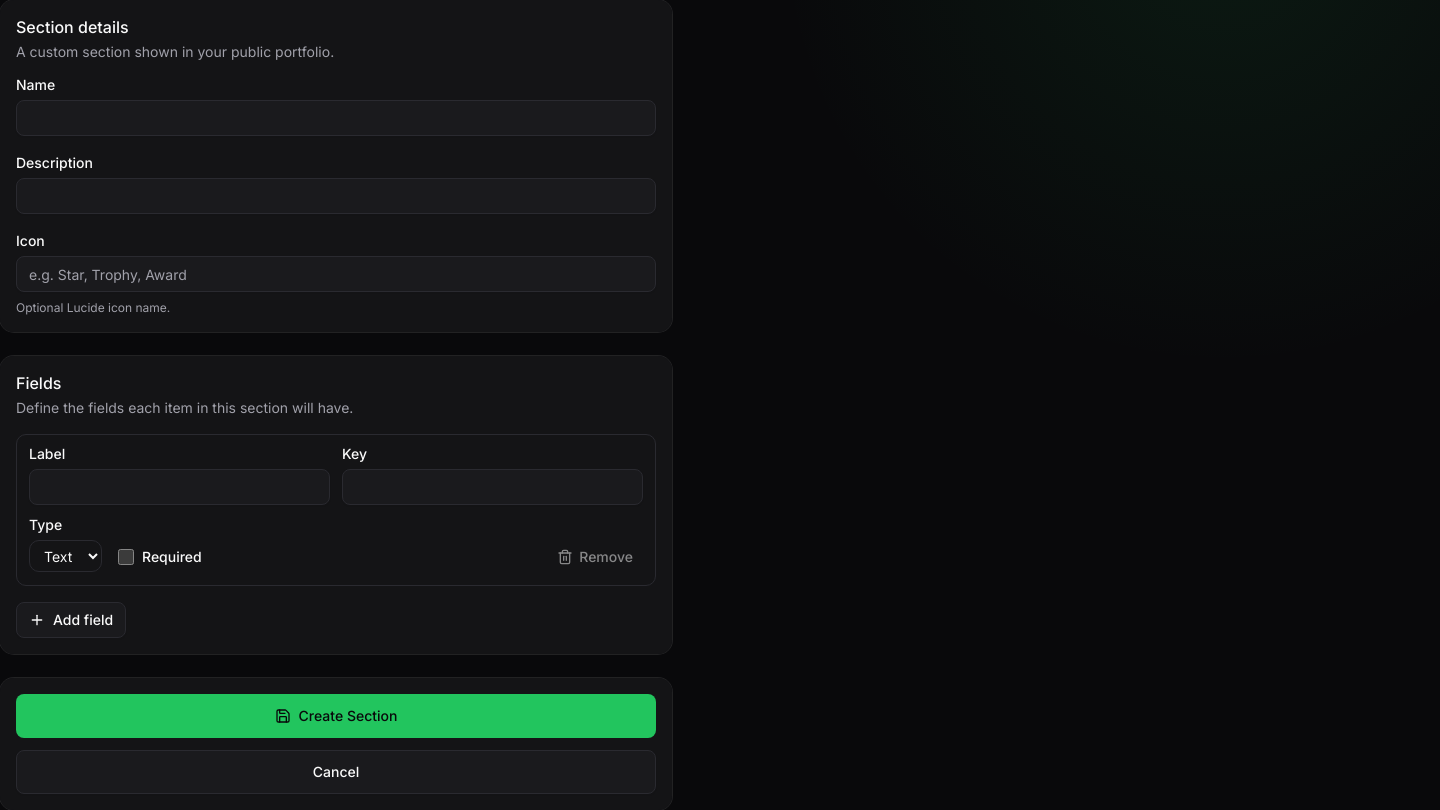
SectionForm › auto-populates the key from the label
Type "My Award" into the field named "Field label" at (180, 487), box [29,469,330,505]
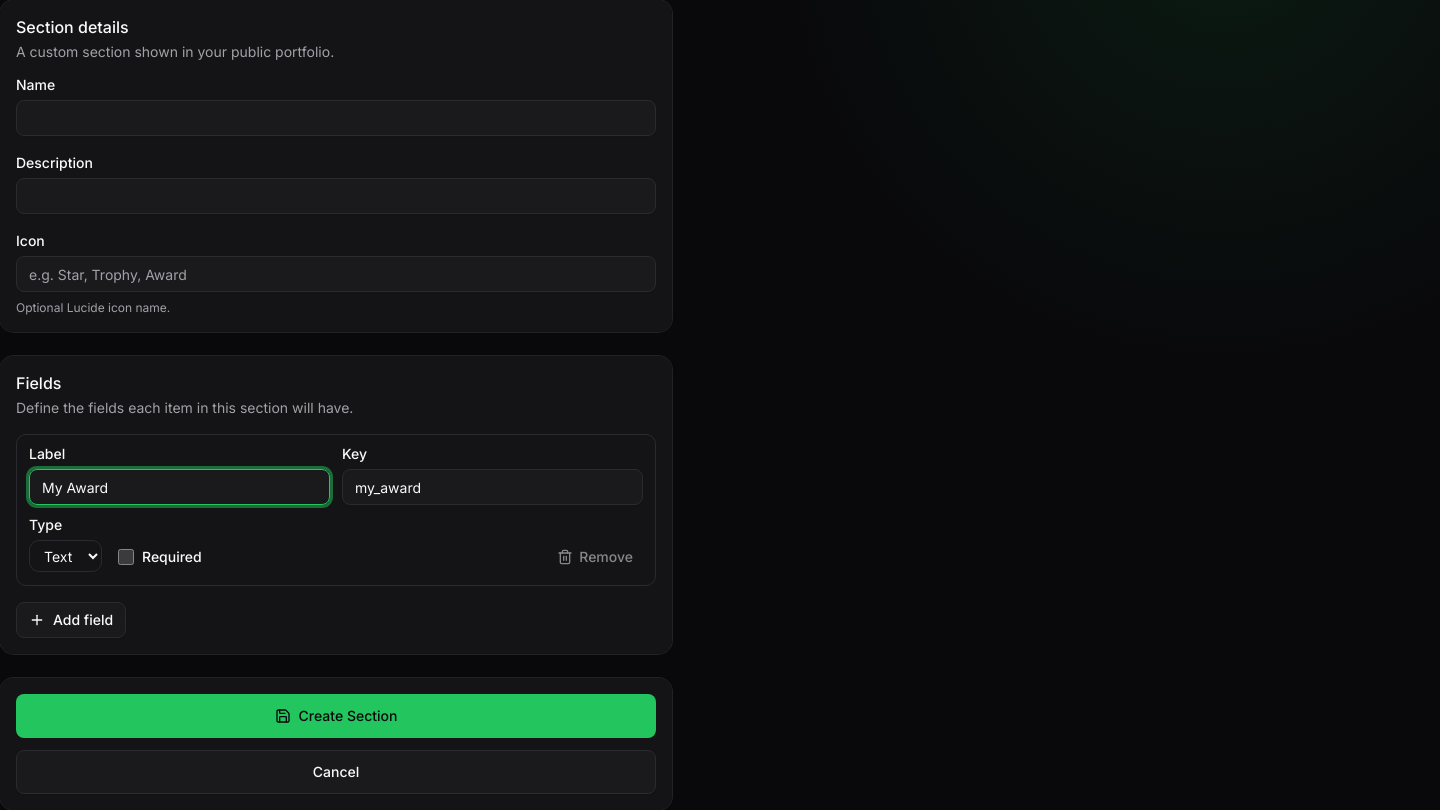
Result: the field named "Field key" holds "my_award" at [342,469,643,505]
